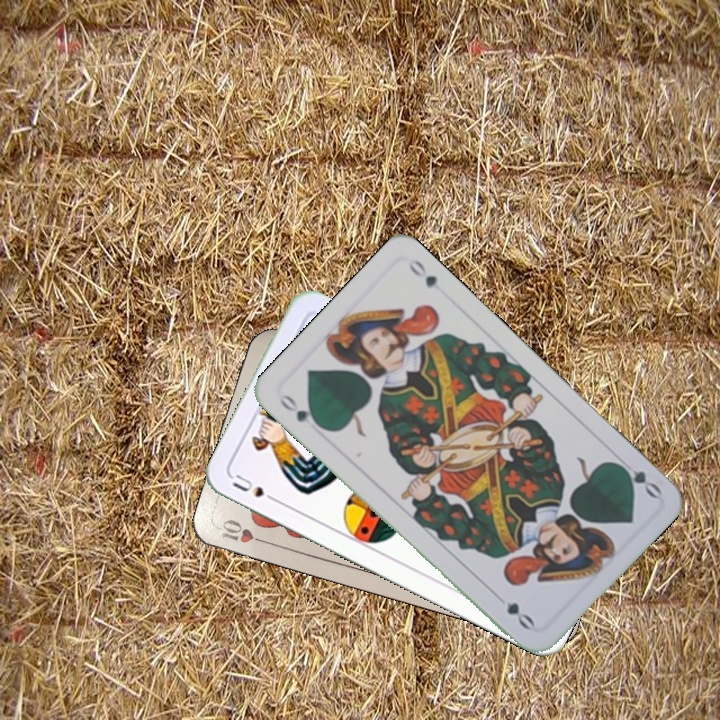GO: (611, 454, 664, 501), (275, 390, 326, 431)
H10: (217, 515, 273, 547)
SU: (228, 470, 283, 507)
